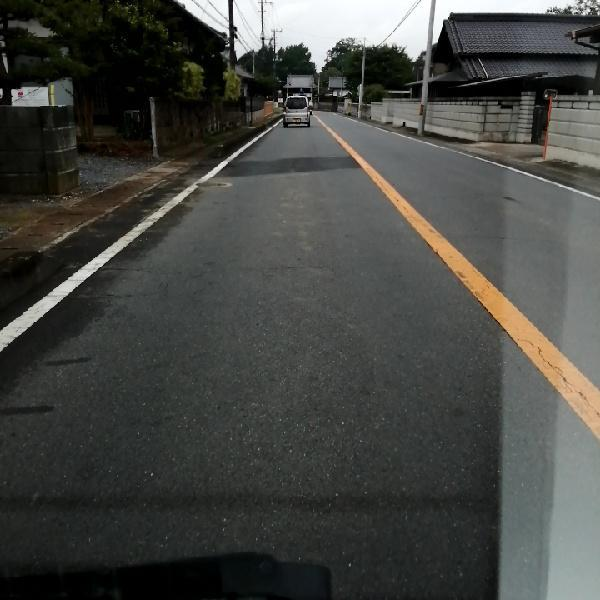D10: (81, 284, 158, 304), (92, 256, 149, 276)
